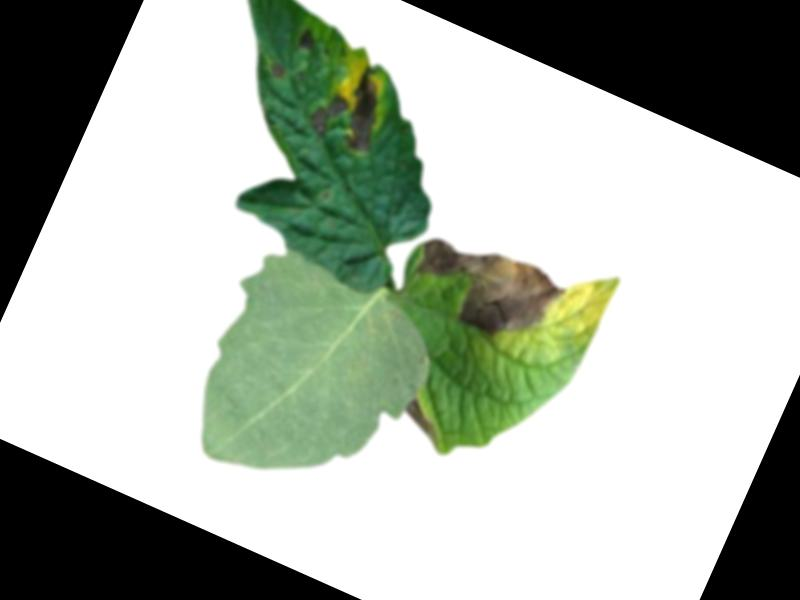Early_blight: (398, 218, 571, 358), (302, 50, 401, 160), (398, 391, 449, 441), (296, 26, 319, 52), (267, 62, 289, 81), (231, 1, 261, 2)
healthy: (168, 231, 455, 526)
